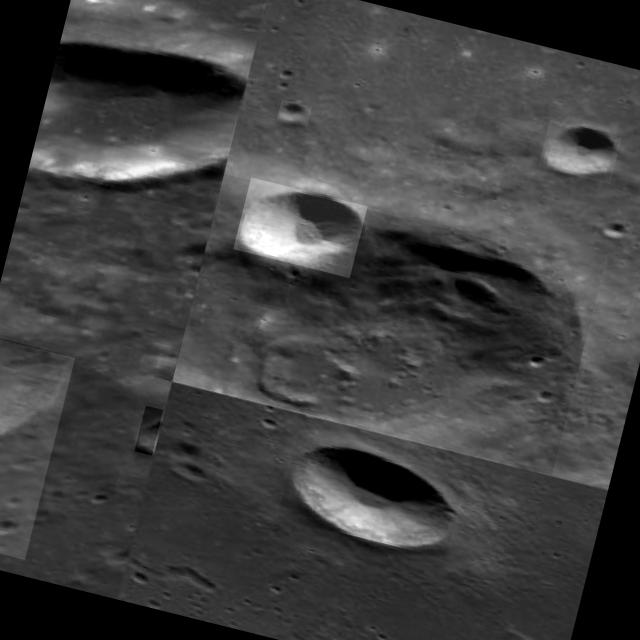crater: (172, 173, 602, 474), (28, 25, 247, 215), (277, 433, 466, 560), (0, 335, 75, 559), (233, 178, 367, 278), (538, 120, 622, 184), (134, 405, 162, 455), (276, 100, 312, 126)
